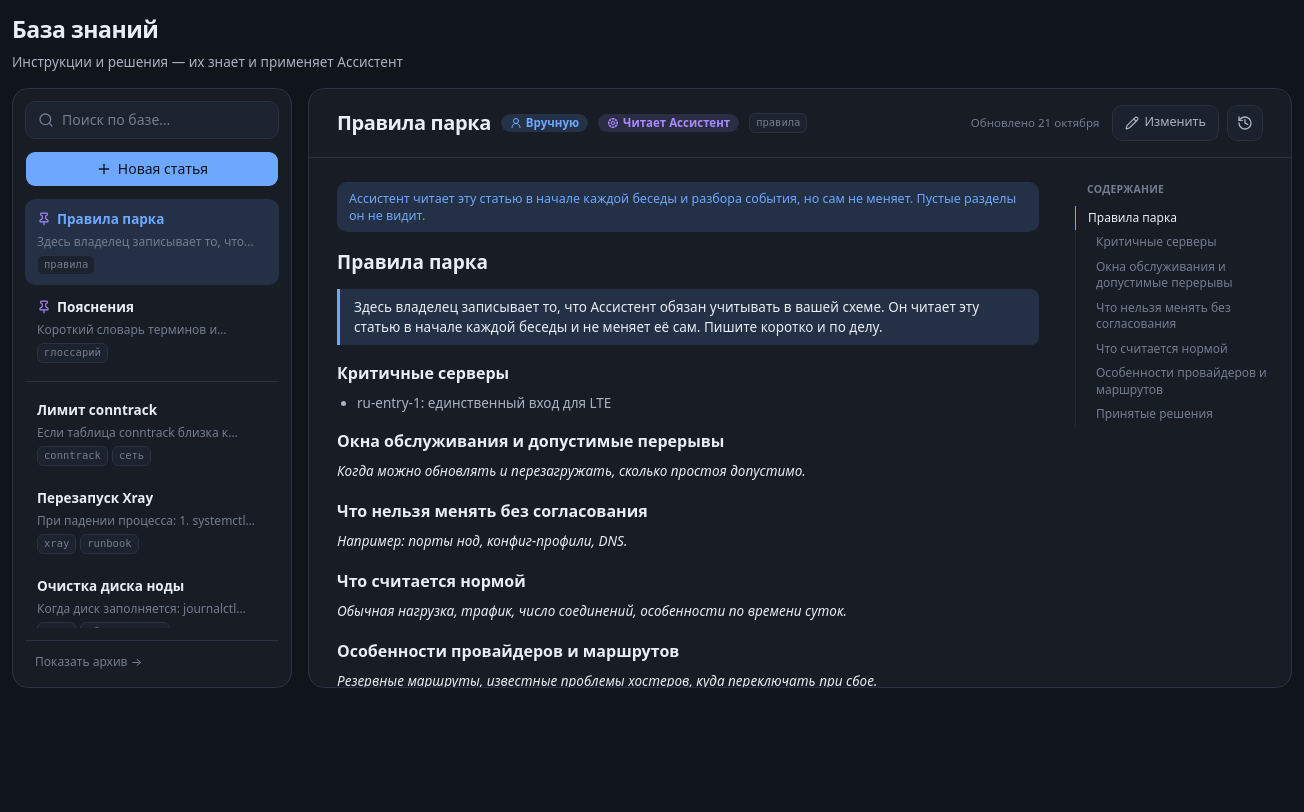
it: KnowledgePage › ошибка фонового обновления сохраняет открытую статью и редактор
Click the button "Лимит conntrack". click: (152,433)
box: [25,390,279,476]
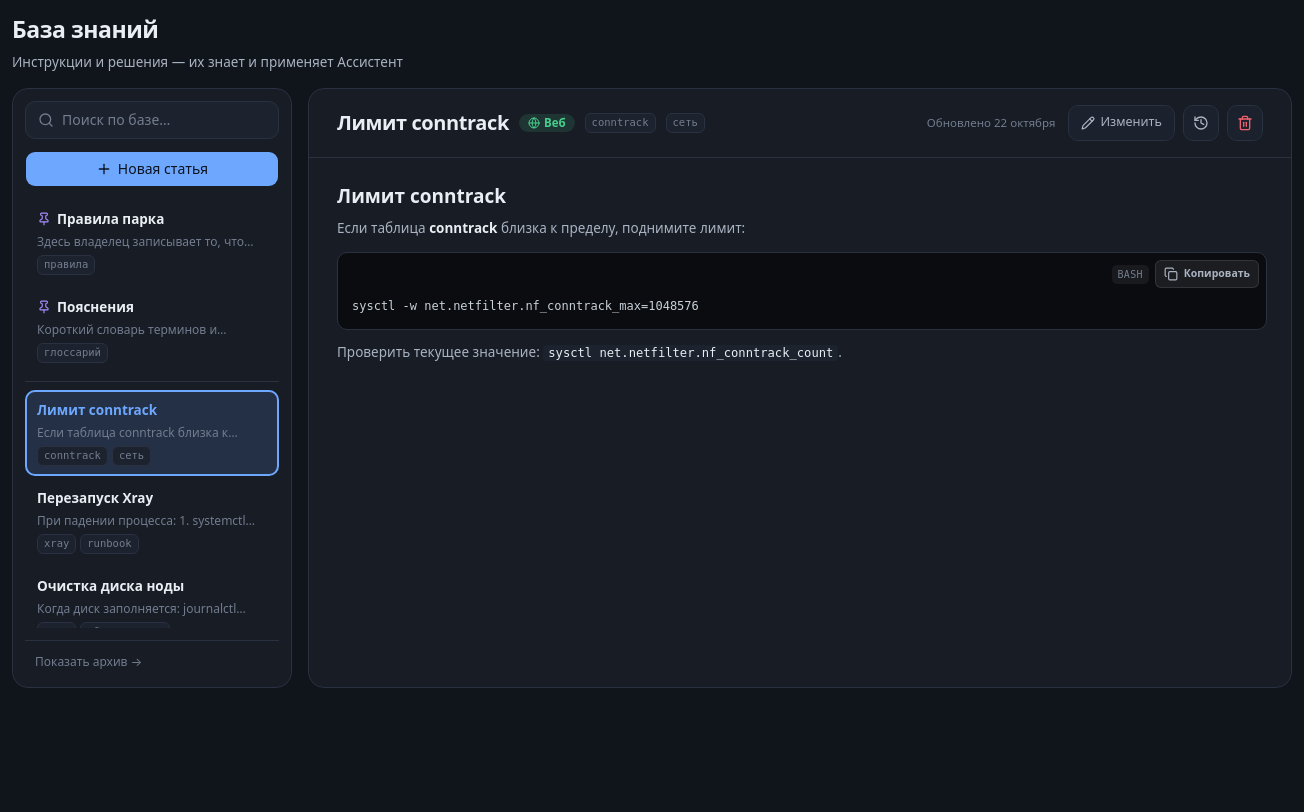
Check: the heading "Лимит conntrack" is shown, box [337,110,509,135]
Click the button "Перезапуск Xray". click: (152,521)
box: [25,478,279,564]
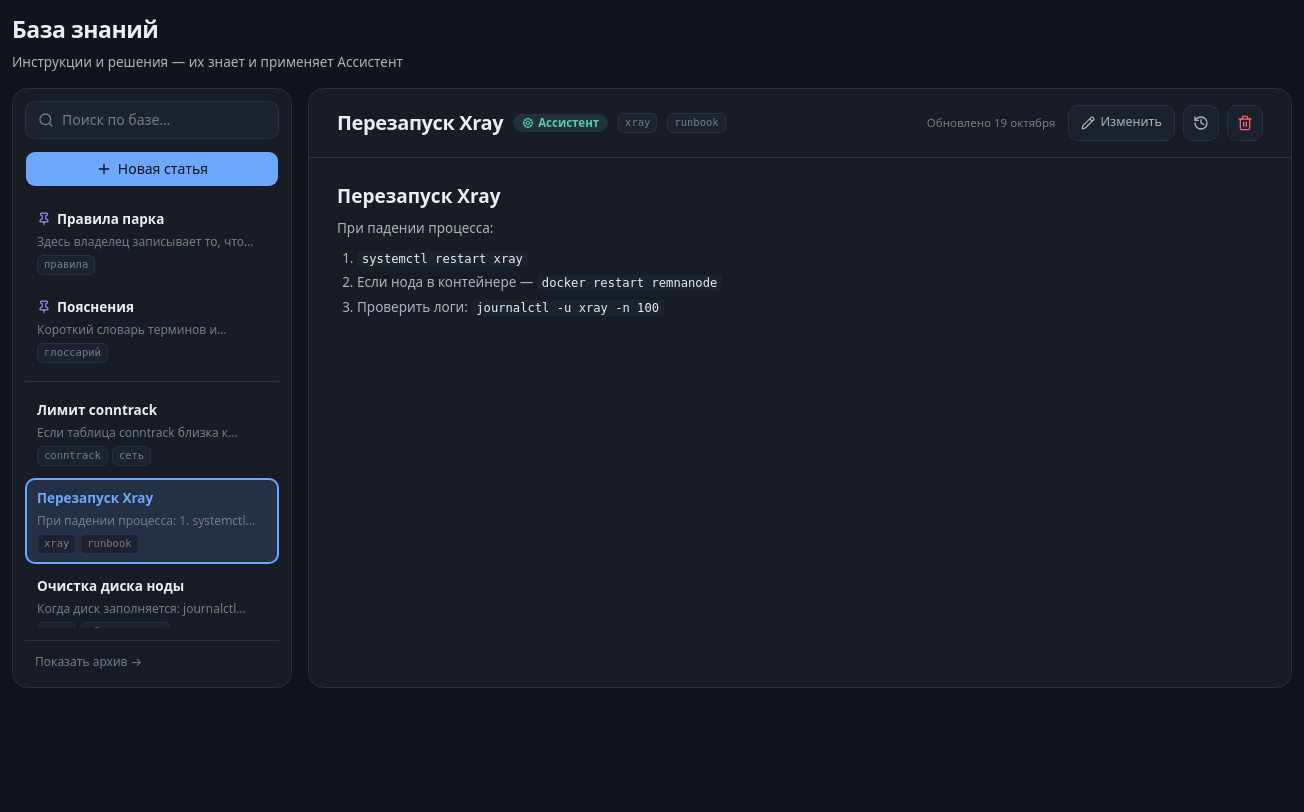
Check: the heading "Перезапуск Xray" is shown, box [337,110,503,135]
Click the button "Лимит conntrack". click: (152,433)
box: [25,390,279,476]
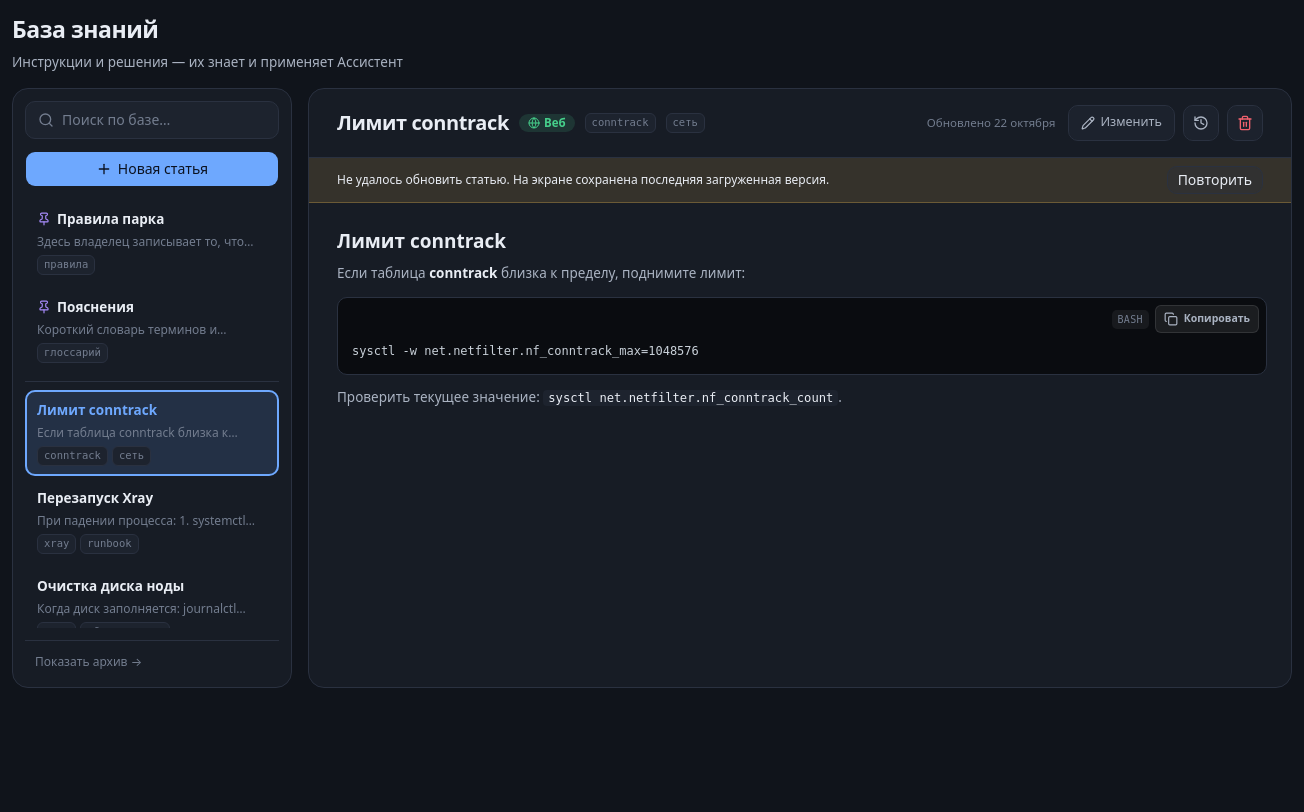
Check: the text "последняя загруженная версия" is shown, box [337,171,829,188]
Check: the heading "Лимит conntrack" is shown, box [337,110,509,135]
Click the button "Изменить". click: (1121,123)
box: [1068,105,1175,141]
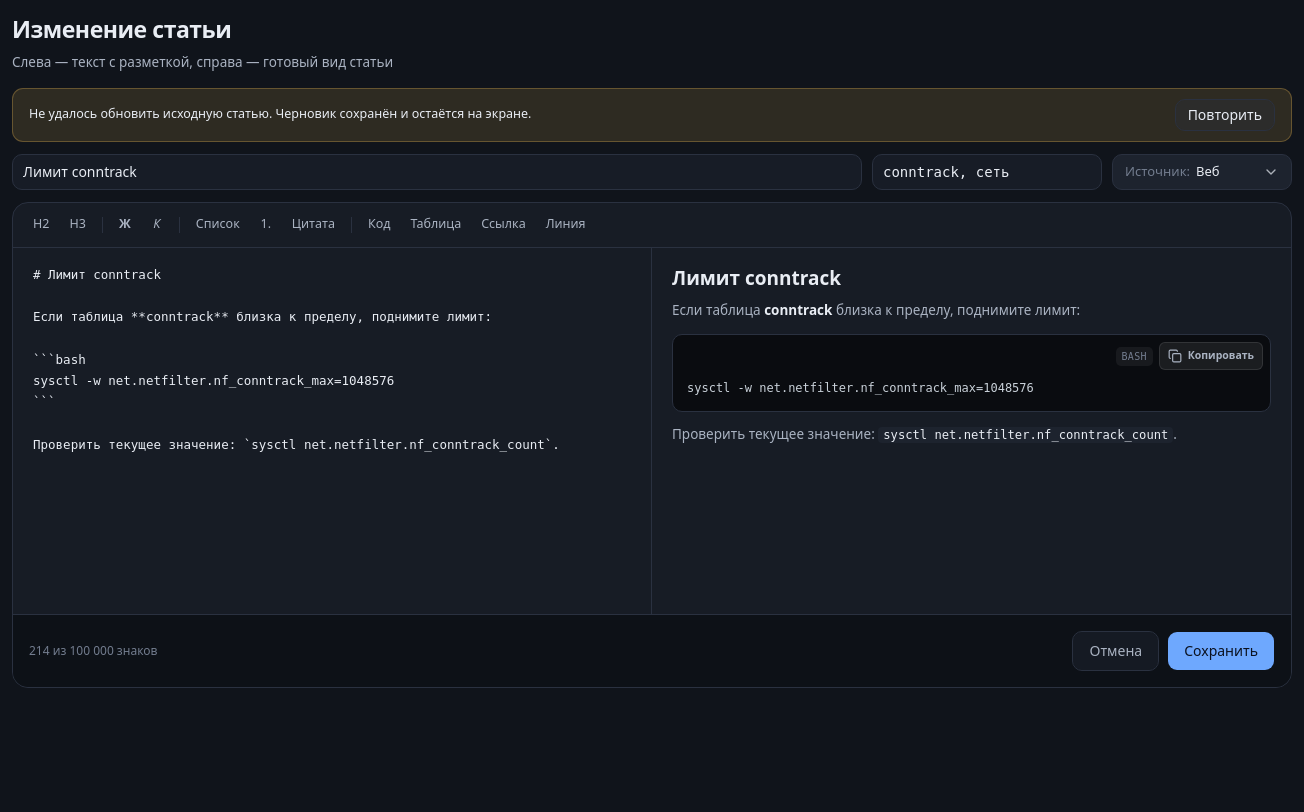
Check: the text "Черновик сохранён и остаётся на экране" is shown, box [29,105,532,122]
